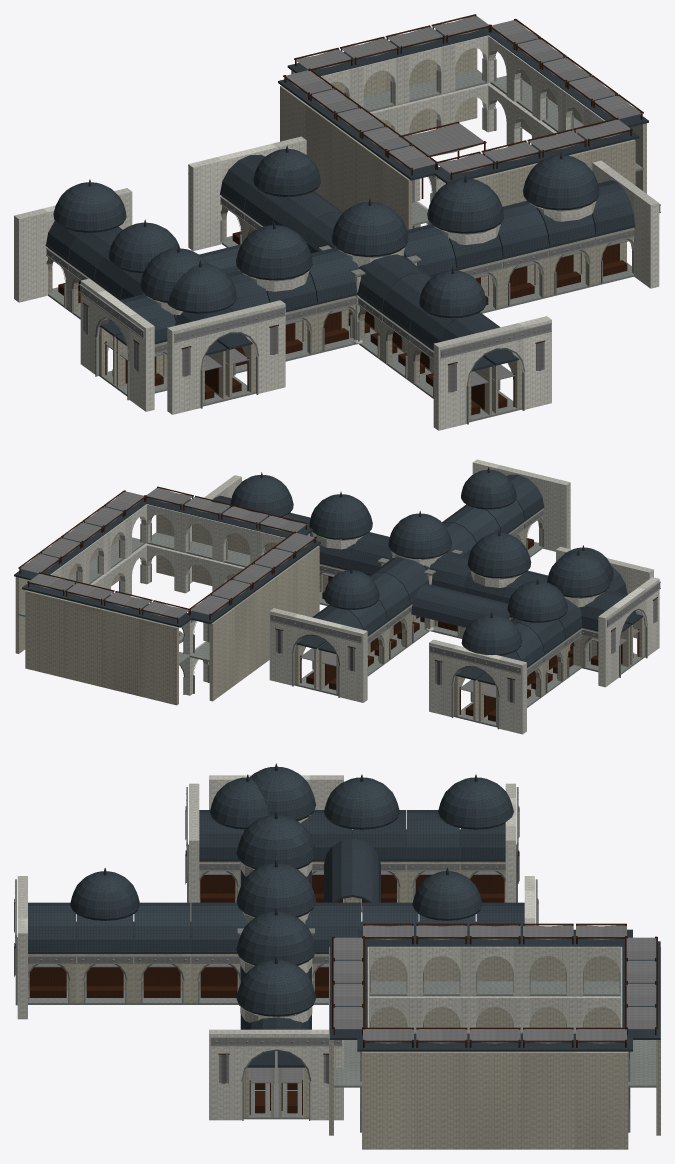
Rendered from grand_bazaar.glb.
The picture shows the model from 3 angles, top to bottom: view 1: azimuth 30°, elevation 25°; view 2: azimuth 150°, elevation 25°; view 3: azimuth 270°, elevation 25°; orthographic projection. The views are drawn at different scales.
Visible parts, largest first — view 1: LOD0.002, LOD0.001, LOD0; view 2: LOD0.002, LOD0.001, LOD0; view 3: LOD0.002, LOD0.001, LOD0.
Boxes of the visible parts, bbox=[...] form: LOD0.002: bbox=[14, 14, 648, 414]; LOD0.001: bbox=[79, 145, 660, 411]; LOD0: bbox=[188, 136, 551, 430]; LOD0.002: bbox=[14, 486, 653, 734]; LOD0.001: bbox=[189, 467, 660, 687]; LOD0: bbox=[269, 459, 570, 702]; LOD0.002: bbox=[185, 774, 660, 1149]; LOD0.001: bbox=[70, 763, 482, 1120]; LOD0: bbox=[14, 876, 538, 1019].
Size of what is drawn, in the model's own units: 7.25 by 1.52 by 6.8.
Materials: 2 (2 with a texture image).
